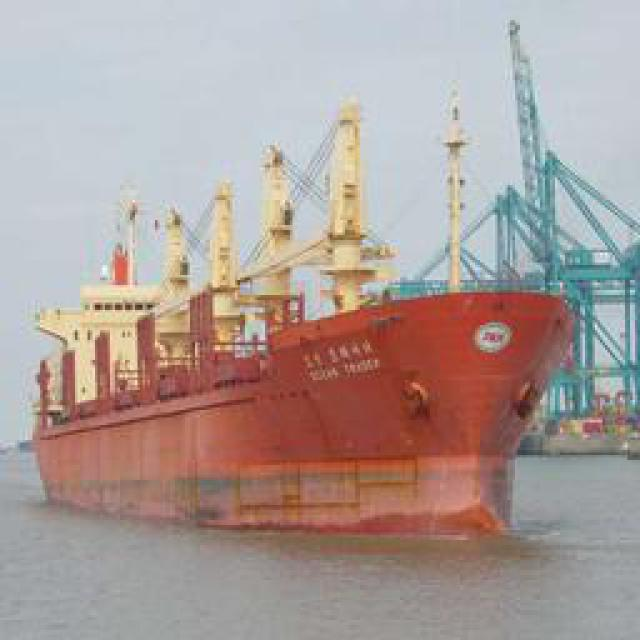Ship: (25, 44, 585, 539)
